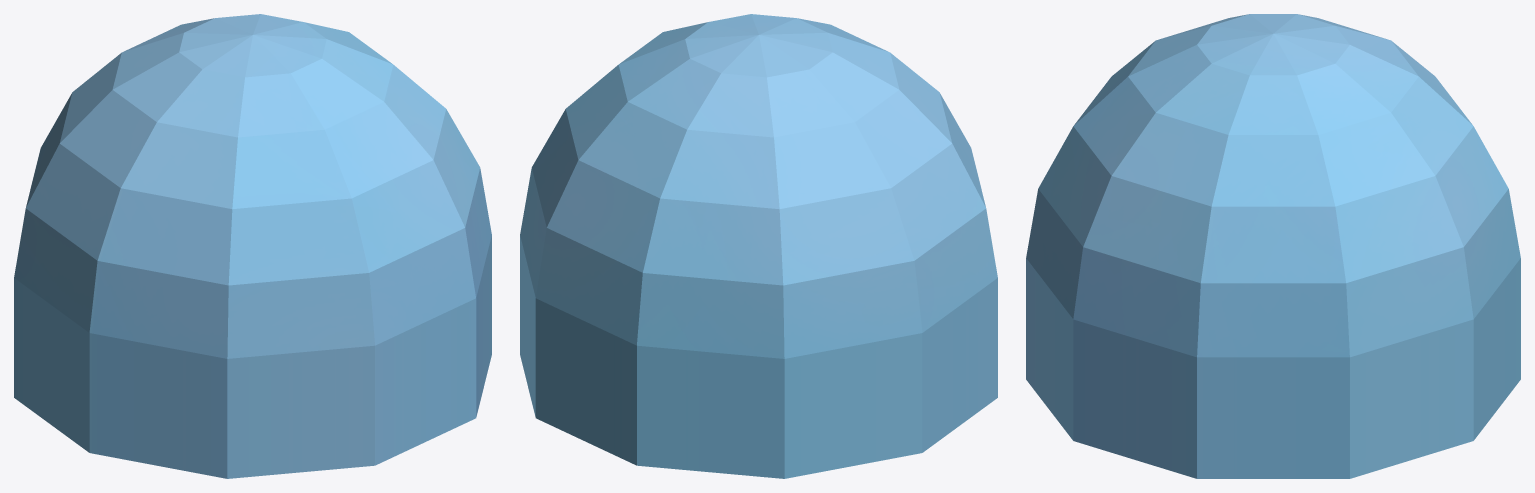
Rendered from EnvironmentSkydome.glb.
3 renders of one model, left to right at view 1: azimuth 30°, elevation 25°; view 2: azimuth 150°, elevation 25°; view 3: azimuth 270°, elevation 25°, orthographic.
Visible parts, largest first — view 1: Sphere; view 2: Sphere; view 3: Sphere.
Boxes of the visible parts, x1,y1,x2,y2 form: Sphere: (14, 14, 491, 478); Sphere: (520, 14, 997, 478); Sphere: (1026, 14, 1520, 478).
Size of the model in its own units: 1.9 by 1.54 by 2.
Materials: 1 (1 with a texture image).
